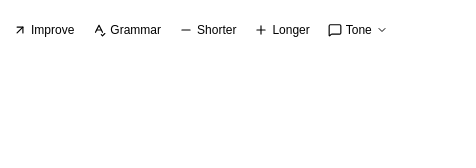
AIWritingAssistant › shows tone dropdown when Tone button is clicked
This screenshot has width=476, height=168.
Click the button with aria-label "change tone" at (358, 30), box x1=320 y1=17 x2=396 y2=43
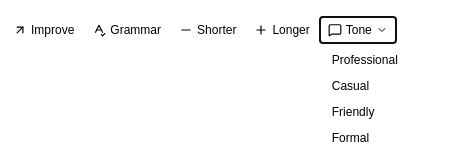
Check: the menu named "tone options" is shown, box x1=320 y1=47 x2=460 y2=151
Check: the menu item "Professional" is shown, box x1=320 y1=47 x2=460 y2=73
Check: the menu item "Casual" is shown, box x1=320 y1=73 x2=460 y2=99
